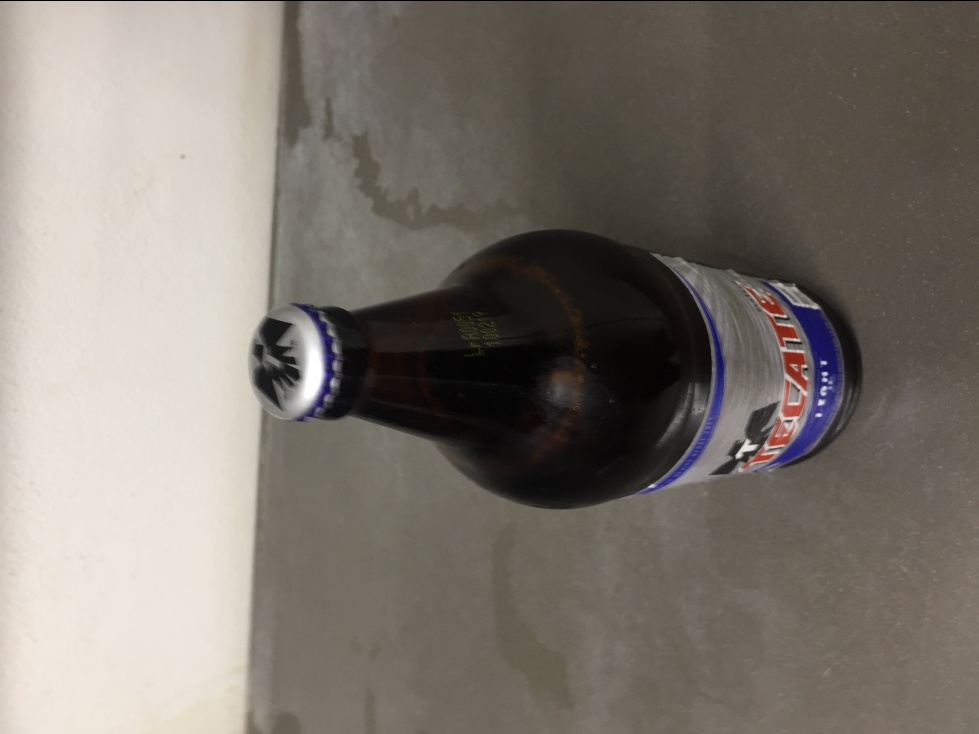tecateC: (245, 224, 861, 510)
